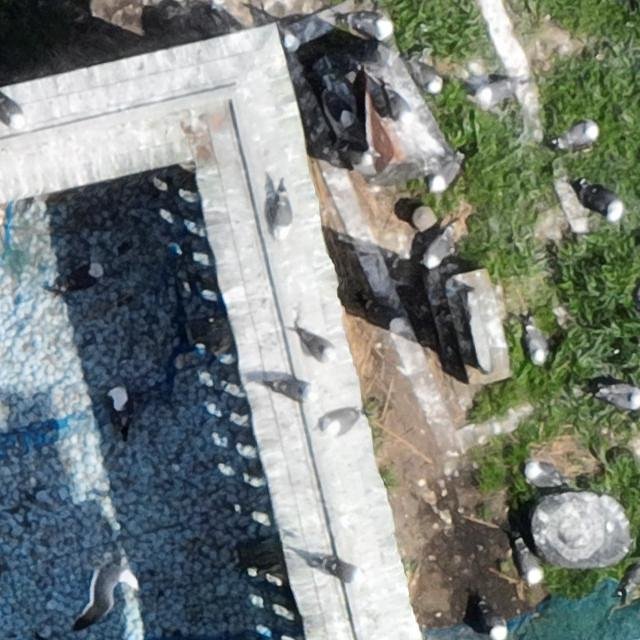umineko: (294, 324, 338, 363), (347, 12, 397, 41), (322, 87, 354, 130), (430, 158, 464, 194), (108, 388, 132, 436), (585, 188, 623, 218), (316, 560, 364, 582), (323, 408, 359, 435), (270, 377, 314, 399), (0, 94, 25, 130), (603, 387, 640, 410), (562, 122, 598, 145), (518, 548, 540, 584), (426, 233, 450, 265), (477, 82, 513, 103), (414, 63, 440, 92), (63, 266, 98, 287), (528, 326, 546, 362), (527, 463, 557, 484), (274, 199, 290, 236), (482, 609, 503, 636), (279, 25, 297, 55), (624, 563, 640, 590)
